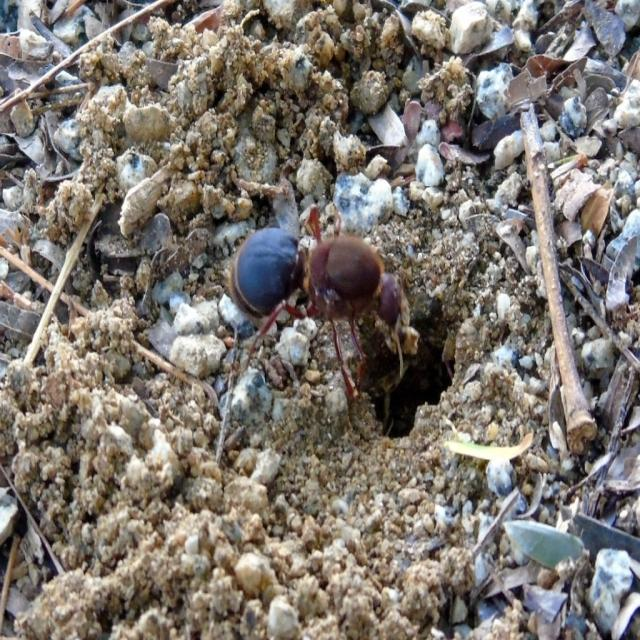Alive-Female-Dealate: (228, 203, 420, 406)
